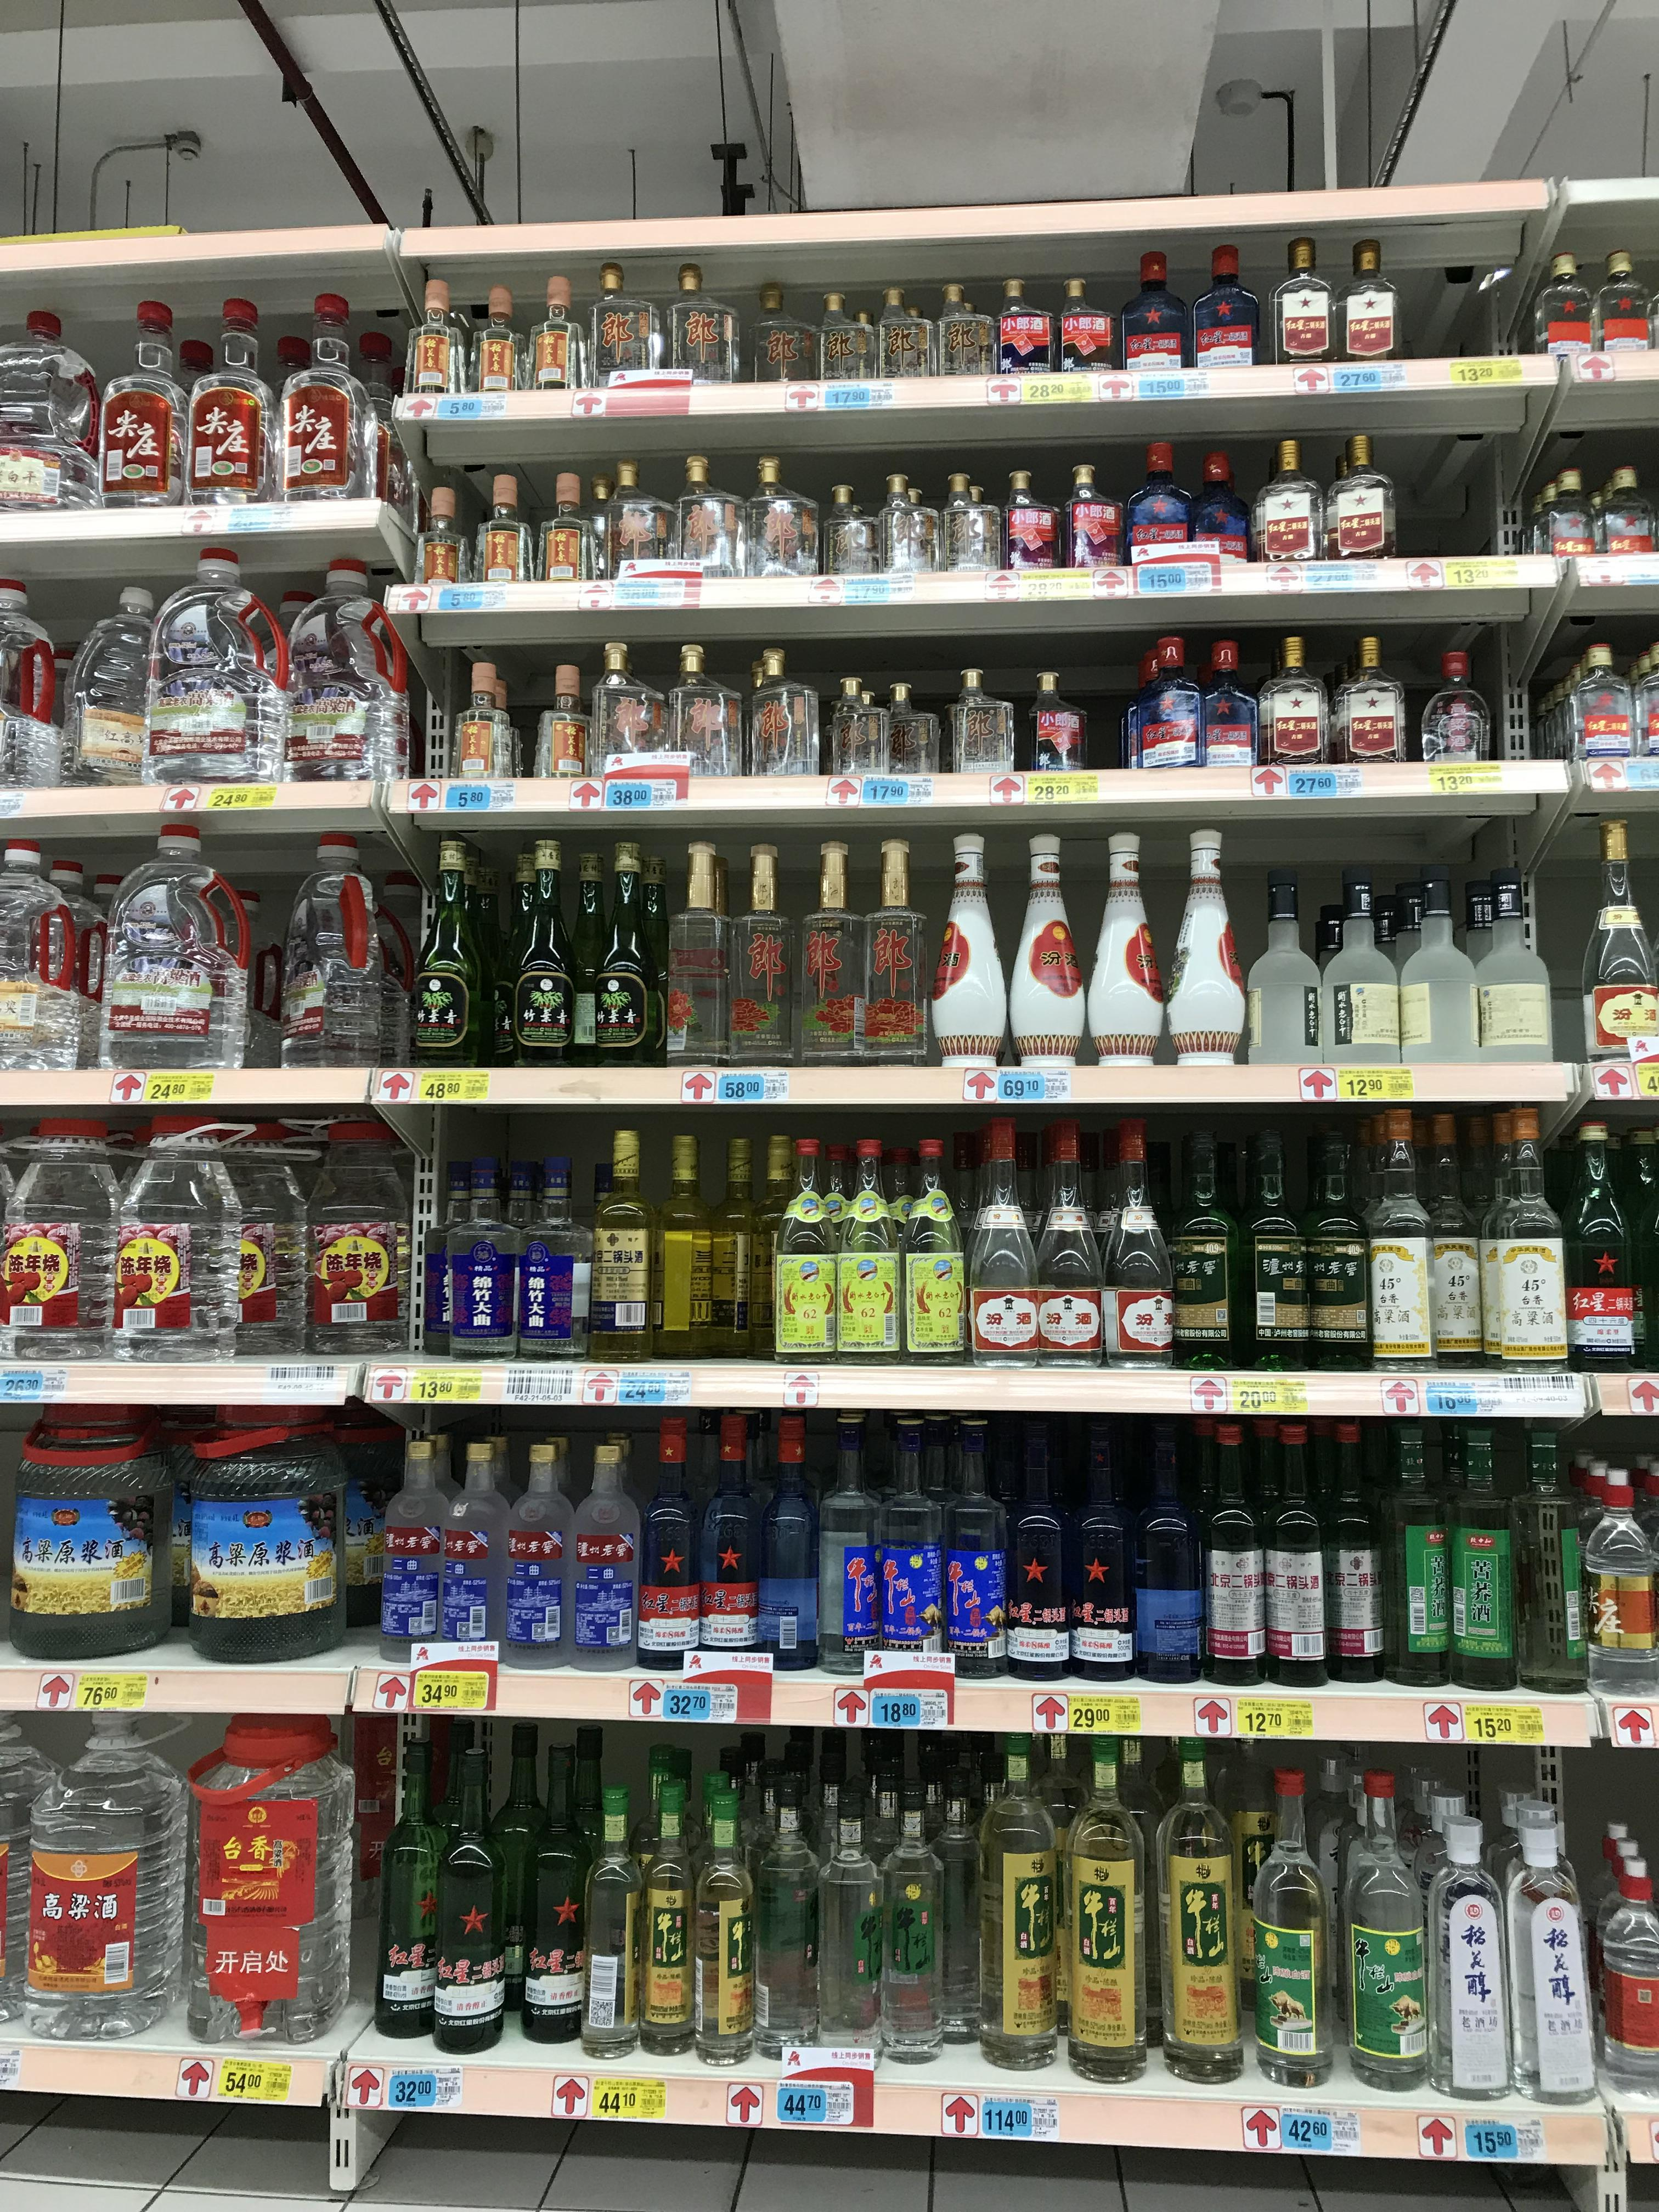bag: (171, 1717, 347, 2034), (197, 1108, 315, 1346), (301, 1104, 411, 1346)
bottle: (24, 1716, 181, 2038), (103, 1103, 232, 1355), (99, 824, 232, 1064), (1056, 1750, 1148, 2078), (1152, 1756, 1244, 2083), (2, 1113, 125, 1352), (1337, 1777, 1431, 2088), (416, 1726, 505, 2052), (971, 1750, 1060, 2067), (1243, 1770, 1331, 2087), (1506, 1811, 1596, 2097), (514, 1742, 598, 2050), (366, 1730, 450, 2034), (279, 838, 390, 1066), (148, 557, 261, 779), (275, 563, 383, 782), (1425, 1813, 1509, 2095), (1551, 1118, 1642, 1376), (1506, 1440, 1596, 1691), (1438, 1428, 1523, 1693), (1481, 1108, 1567, 1372), (812, 1796, 897, 2057), (1127, 1418, 1209, 1689), (1378, 1421, 1459, 1688), (999, 1407, 1075, 1684), (1066, 1414, 1141, 1689), (1199, 1416, 1272, 1693), (1352, 1111, 1431, 1369), (1314, 1420, 1389, 1686), (1410, 1113, 1488, 1367), (939, 1407, 1012, 1677), (683, 1796, 756, 2066), (575, 1785, 648, 2054), (1258, 1416, 1330, 1689), (274, 294, 364, 509), (871, 1414, 946, 1672), (99, 303, 192, 512), (406, 845, 493, 1066), (71, 594, 173, 784), (1164, 1125, 1243, 1369), (0, 308, 91, 519), (871, 1799, 943, 2066), (1230, 1125, 1307, 1372), (753, 1414, 828, 1667), (401, 1435, 484, 1660), (1577, 826, 1654, 1068), (631, 1423, 706, 1669), (1298, 1125, 1373, 1369), (692, 1420, 767, 1663), (631, 1791, 699, 2059), (498, 840, 579, 1066), (190, 301, 277, 509), (495, 1440, 575, 1663), (561, 1442, 641, 1665), (579, 845, 659, 1068), (748, 1796, 816, 2057), (1168, 838, 1244, 1068), (1577, 1470, 1657, 1689), (1100, 1122, 1171, 1367), (2, 843, 82, 1061), (1586, 1843, 1657, 2085), (765, 1136, 840, 1366), (965, 1118, 1035, 1364), (340, 583, 425, 780), (1035, 1120, 1103, 1364), (1011, 840, 1084, 1064), (1091, 836, 1162, 1066), (817, 1426, 885, 1665), (833, 1134, 903, 1364), (439, 1444, 512, 1662), (857, 845, 929, 1064), (931, 841, 1002, 1061), (899, 1130, 965, 1360), (727, 846, 795, 1069), (643, 1139, 711, 1360), (660, 848, 728, 1069), (1396, 871, 1474, 1061), (586, 1136, 652, 1360), (1467, 850, 1539, 1055), (796, 848, 863, 1066), (2, 582, 68, 798), (437, 1158, 509, 1355), (704, 1141, 767, 1359), (1326, 874, 1399, 1059), (342, 301, 408, 500), (516, 1162, 579, 1357), (483, 1167, 542, 1360), (1260, 883, 1324, 1061), (1131, 637, 1206, 780), (587, 265, 666, 390), (1328, 435, 1401, 568), (1417, 651, 1497, 772), (1337, 639, 1410, 770), (659, 265, 737, 385), (591, 646, 659, 782), (746, 657, 819, 780), (1251, 446, 1323, 571), (1263, 637, 1328, 772), (1194, 251, 1262, 376), (525, 273, 594, 394), (1338, 242, 1405, 366), (1199, 641, 1258, 779), (410, 280, 467, 421), (1124, 455, 1192, 573), (1272, 242, 1335, 369), (676, 655, 739, 780), (751, 462, 816, 583), (453, 660, 512, 786), (945, 669, 1011, 780), (671, 458, 730, 582), (540, 477, 606, 587), (1122, 263, 1183, 380), (1582, 254, 1640, 378), (1574, 646, 1629, 770), (469, 294, 526, 411), (1530, 467, 1598, 564), (1534, 254, 1589, 373), (746, 286, 812, 385), (476, 472, 530, 592), (1028, 674, 1082, 786), (992, 280, 1051, 378), (1061, 484, 1121, 577), (538, 679, 591, 784), (610, 477, 664, 578), (1195, 460, 1243, 570), (420, 489, 465, 597)
jar: (185, 1418, 345, 1660), (12, 1409, 167, 1656), (1595, 469, 1657, 563), (873, 686, 934, 782), (828, 681, 884, 782), (878, 479, 934, 580), (932, 289, 992, 383), (941, 482, 995, 577), (871, 300, 929, 387), (824, 491, 878, 582), (814, 301, 868, 387), (1000, 498, 1058, 577)
